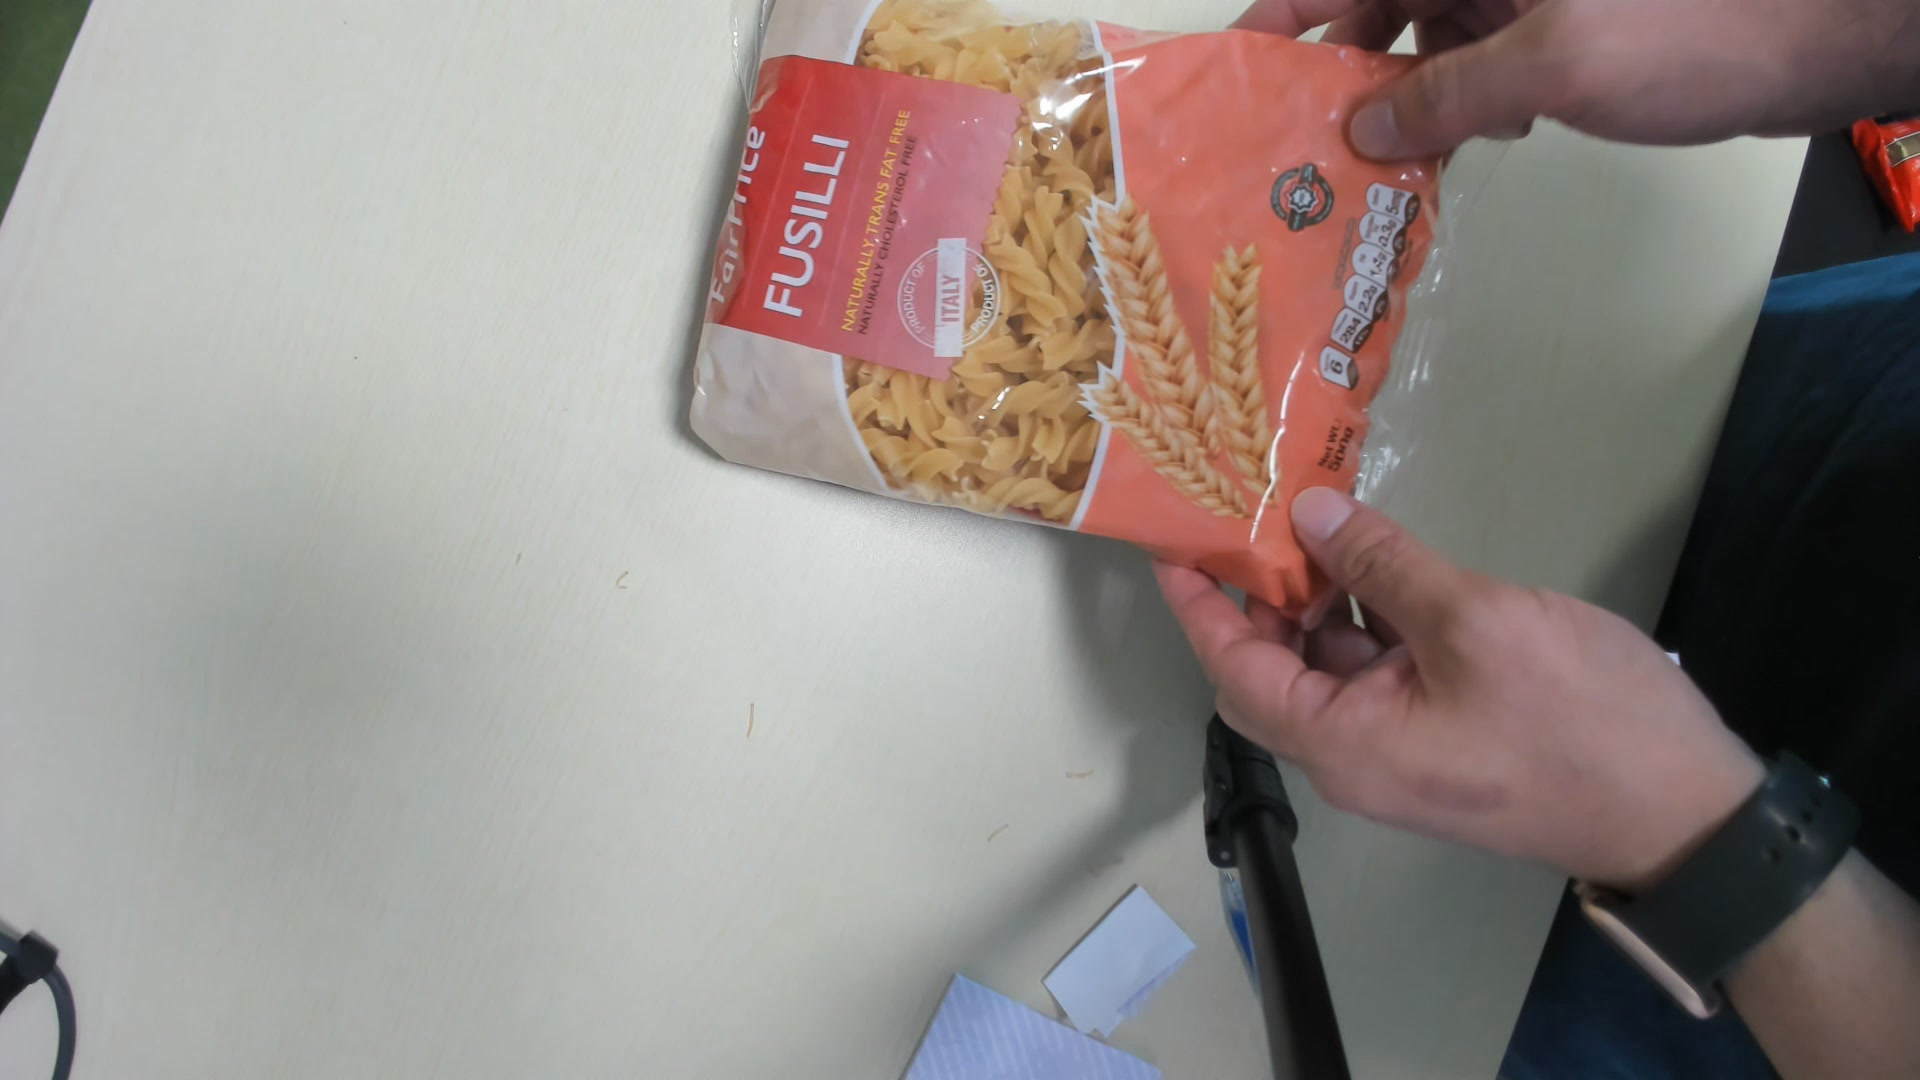Pasta_500-599g_Halal_NonHealthy: (682, 7, 1449, 618)
